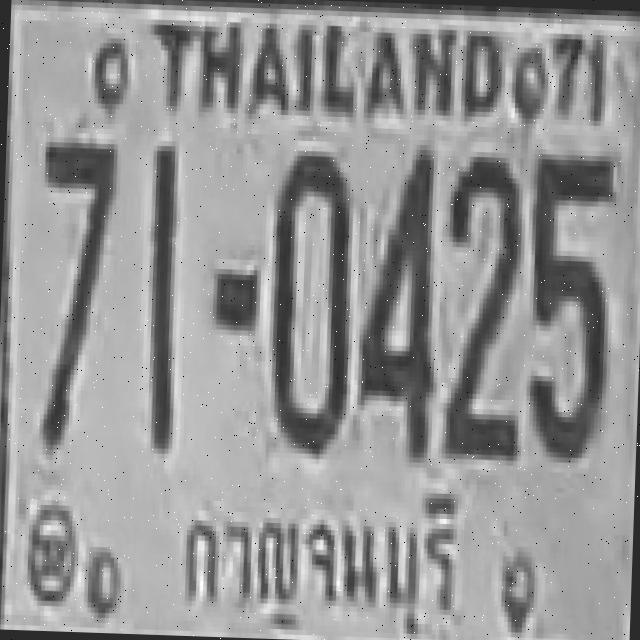0: (265, 147, 355, 454)
1: (142, 142, 176, 416)
2: (438, 153, 528, 458)
4: (354, 140, 440, 461)
5: (522, 146, 612, 456)
7: (32, 134, 114, 429)
Kanchanaburi: (172, 463, 465, 640)
